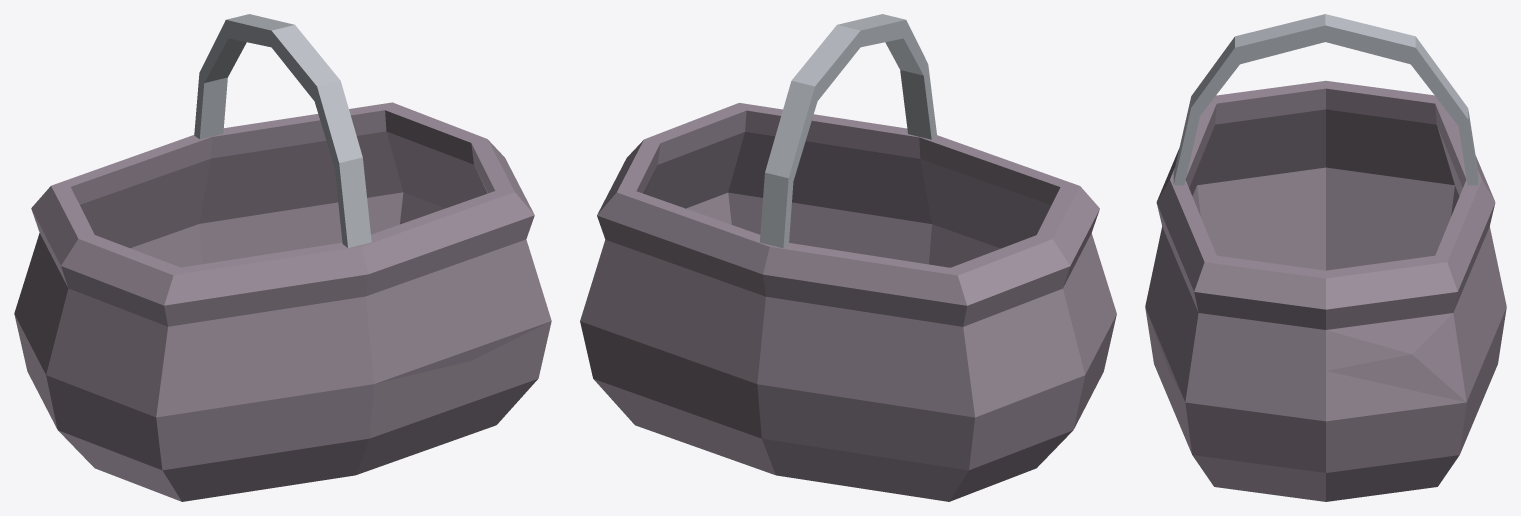
Rendered from SM_Prop_Basket_02.fbx.
3 renders of one model, left to right at view 1: azimuth 30°, elevation 25°; view 2: azimuth 150°, elevation 25°; view 3: azimuth 270°, elevation 25°, orthographic.
Visible parts, largest first — view 1: SM_Prop_Basket_02; view 2: SM_Prop_Basket_02; view 3: SM_Prop_Basket_02.
Boxes of the visible parts, x1,y1,x2,y2 form: SM_Prop_Basket_02: [14, 14, 551, 501]; SM_Prop_Basket_02: [580, 14, 1116, 501]; SM_Prop_Basket_02: [1145, 14, 1506, 501].
Size of the model in its own units: 0.00583 by 0.00466 by 0.00389.
Materials: 1 (1 with a texture image).
